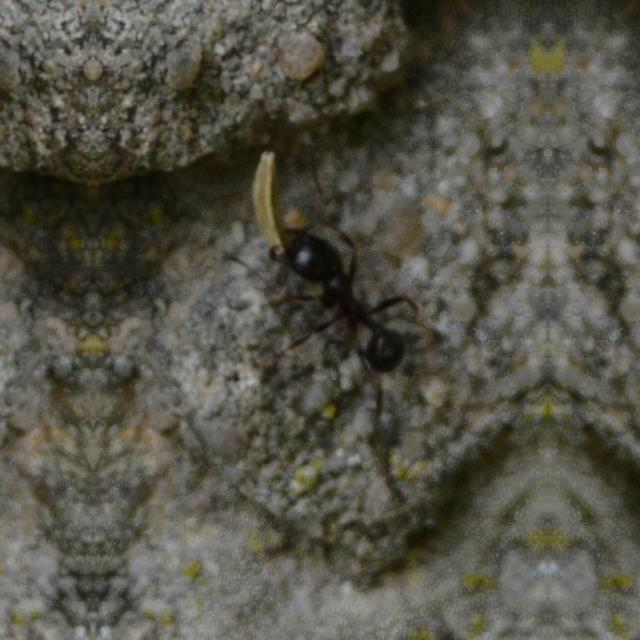Messor: (256, 213, 396, 374)
